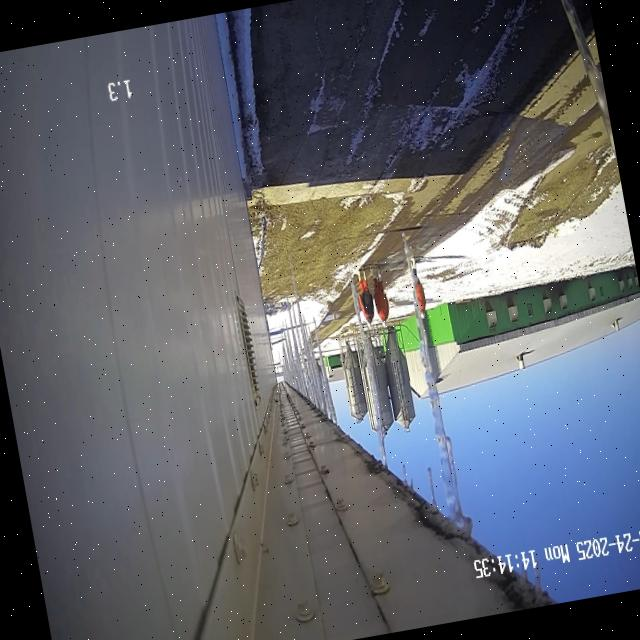Red uniform: (370, 265, 389, 328), (410, 256, 426, 319), (357, 267, 374, 325)
